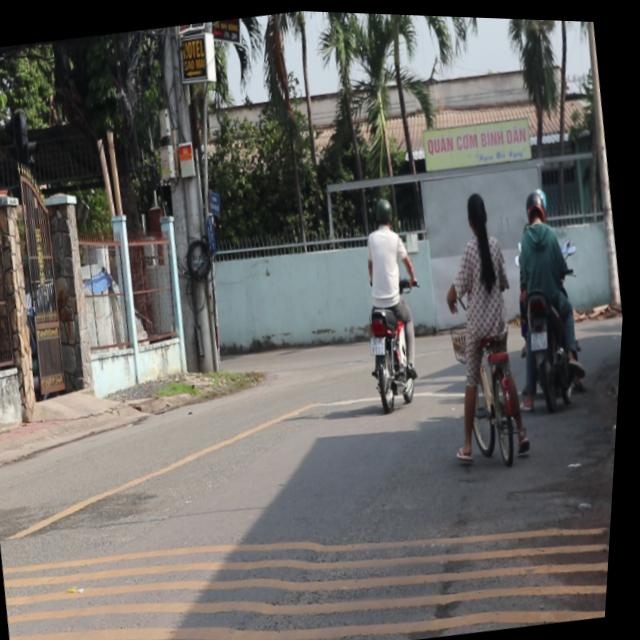helmet: (519, 181, 550, 222), (372, 192, 395, 224)
licenseplate: (494, 177, 601, 411), (341, 185, 438, 409)
nohelmet: (371, 331, 391, 352), (532, 324, 552, 344)
